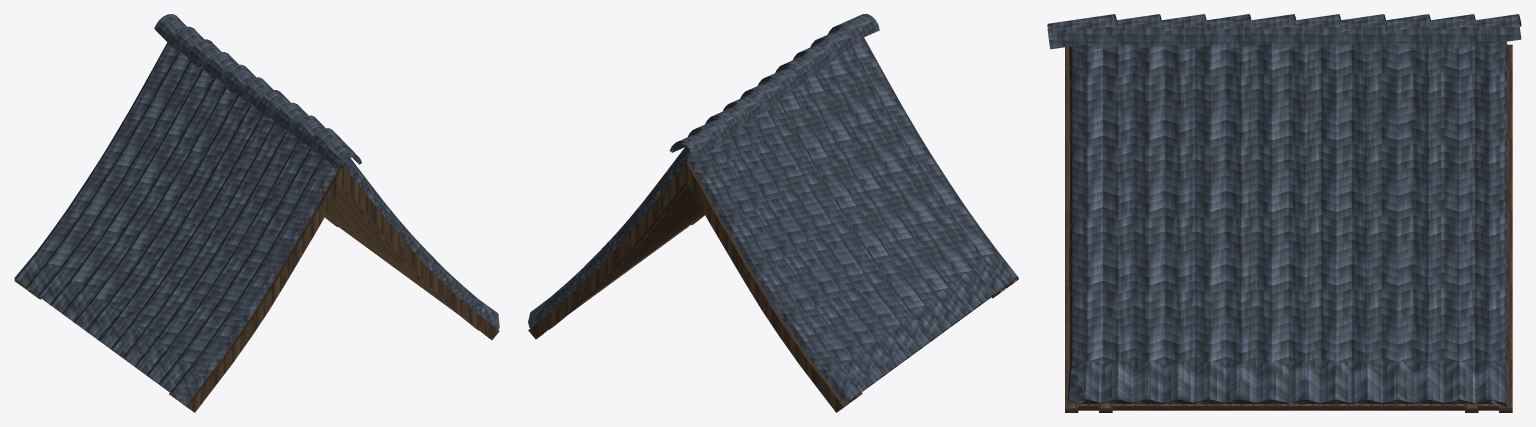
Rendered from Roof_Slate_6x6.gltf.
The picture shows the model from 3 angles, left to right: view 1: azimuth 30°, elevation 25°; view 2: azimuth 150°, elevation 25°; view 3: azimuth 270°, elevation 25°; orthographic projection. The views are drawn at different scales.
Parts seen in each view (by area): view 1: Roof_Slate_6x6; view 2: Roof_Slate_6x6; view 3: Roof_Slate_6x6.
Part boxes in pixels (<box>): Roof_Slate_6x6: <box>14,14,499,412</box>; Roof_Slate_6x6: <box>528,14,1018,412</box>; Roof_Slate_6x6: <box>1047,14,1521,412</box>.
Bounding box in the file's own units: 8.25 × 5.67 × 8.03.
Materials: 2 (2 with a texture image).
